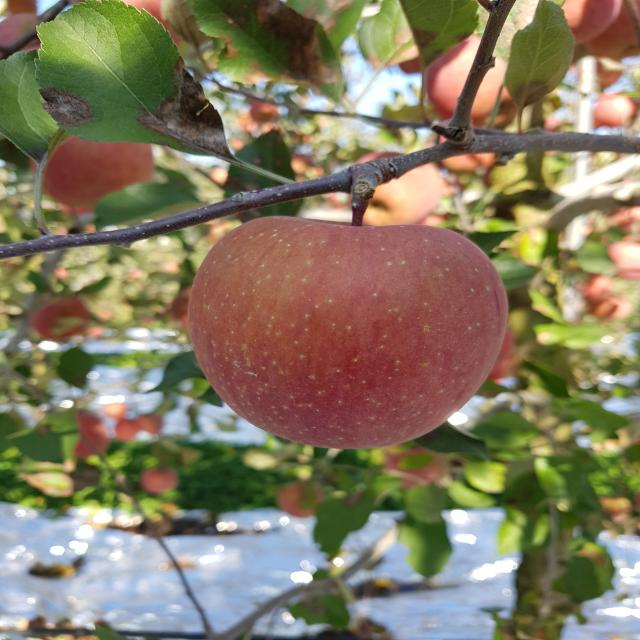fresh: (175, 204, 515, 458)
